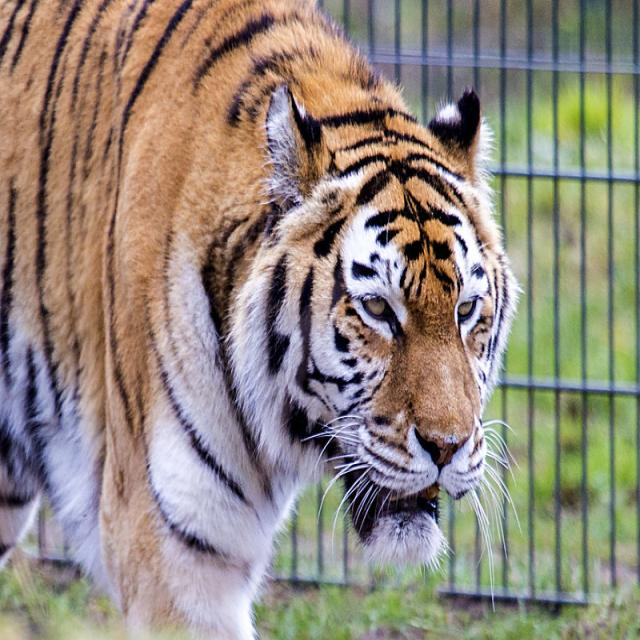Tiger: (0, 0, 510, 632)
